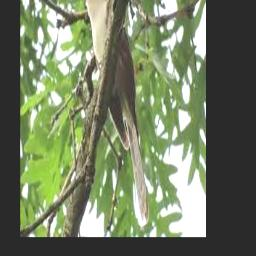Cuckoo: (74, 0, 149, 221)
